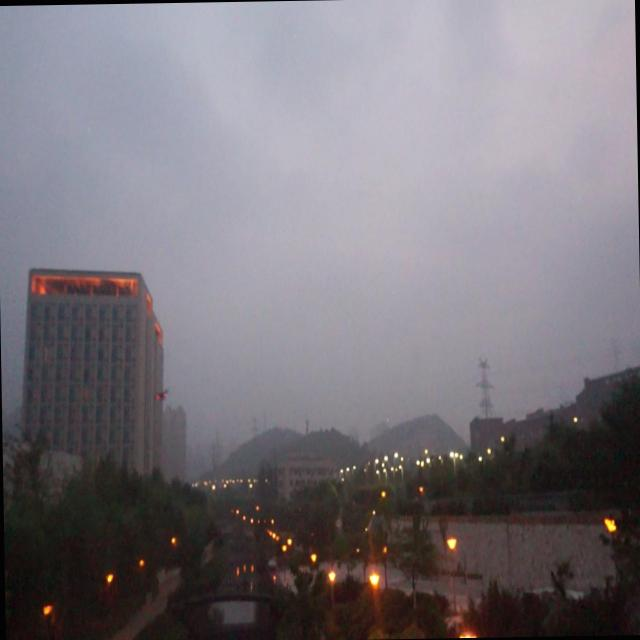drone: (153, 386, 170, 406)
